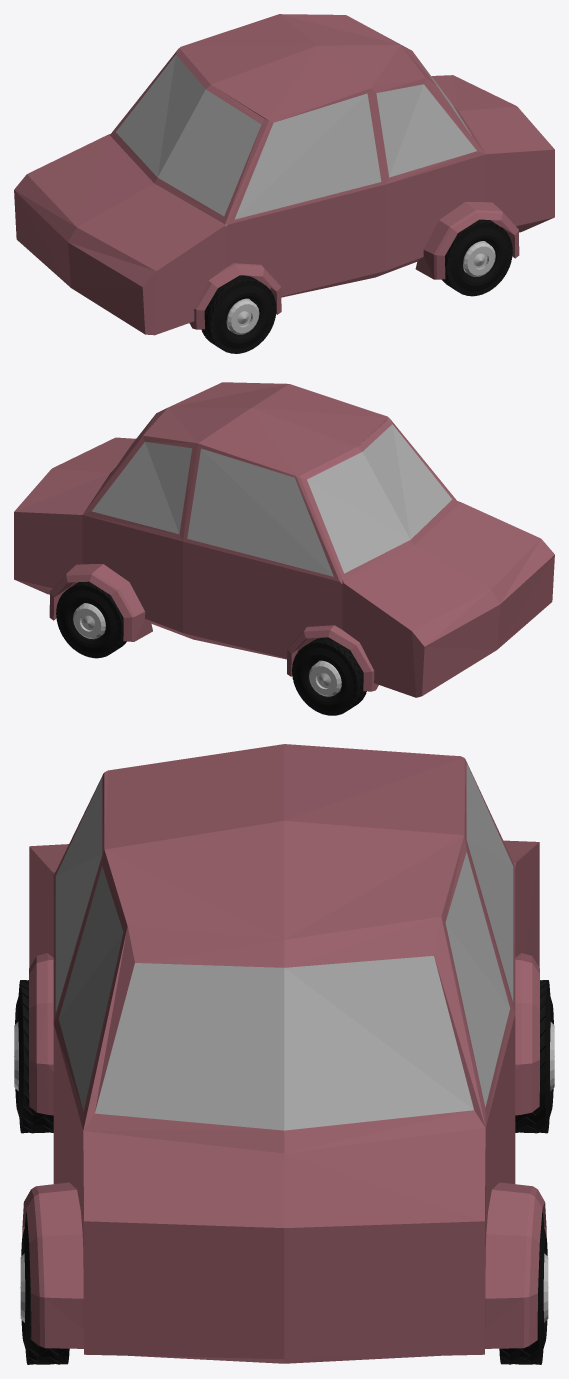
File: CAR.fbx
The picture shows the model from 3 angles, top to bottom: view 1: azimuth 30°, elevation 25°; view 2: azimuth 150°, elevation 25°; view 3: azimuth 270°, elevation 25°; orthographic projection. The views are drawn at different scales.
Parts seen in each view (by area): view 1: ShowCAR2; view 2: ShowCAR2; view 3: ShowCAR2.
Part boxes in pixels (x1=…): ShowCAR2: x1=14, y1=14, x2=554, y2=353; ShowCAR2: x1=14, y1=382, x2=554, y2=715; ShowCAR2: x1=14, y1=744, x2=554, y2=1364.
Bounding box in the file's own units: 4.96 × 2.38 × 2.63.
